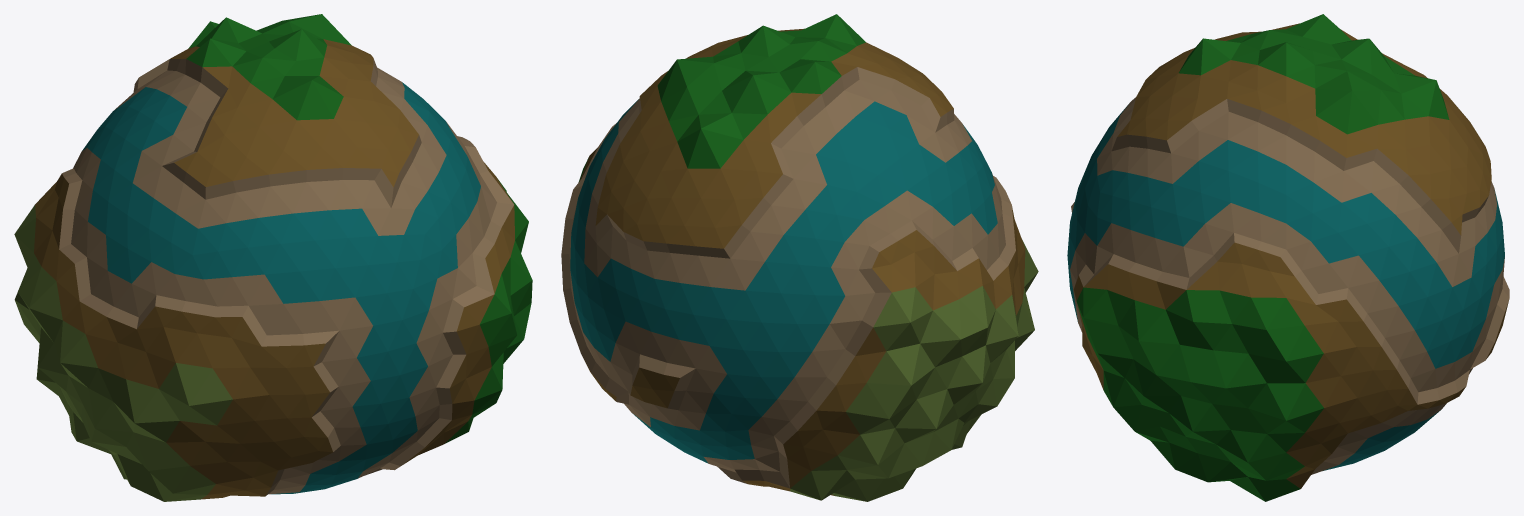
File: Planet1.1.fbx
3 views of the same model, side by side, from view 1: azimuth 30°, elevation 25°; view 2: azimuth 150°, elevation 25°; view 3: azimuth 270°, elevation 25° (orthographic). The views are drawn at different scales.
Visible parts, largest first — view 1: Icosphere; view 2: Icosphere; view 3: Icosphere.
Part boxes in pixels (x1=…): Icosphere: x1=14, y1=14, x2=532, y2=501; Icosphere: x1=561, y1=14, x2=1038, y2=501; Icosphere: x1=1067, y1=14, x2=1509, y2=501.
Bounding box in the file's own units: 1148 × 1069 × 1010.
